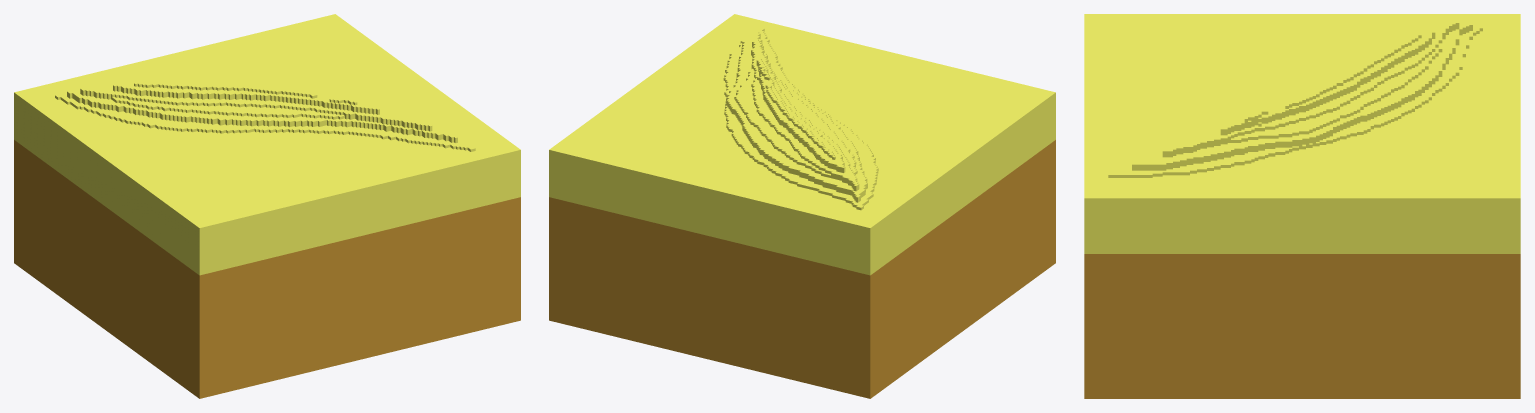
3 views of the same model, side by side, from view 1: azimuth 30°, elevation 25°; view 2: azimuth 150°, elevation 25°; view 3: azimuth 270°, elevation 25° (orthographic). The views are drawn at different scales.
Visible parts, largest first — view 1: 1N; view 2: 1N; view 3: 1N.
Boxes of the visible parts, <box> form: 1N: <box>14,14,520,398</box>; 1N: <box>549,14,1055,398</box>; 1N: <box>1084,14,1520,398</box>.
Size of the model in its own units: 12.8 by 7.3 by 12.8.
1 material, 1 textured.
